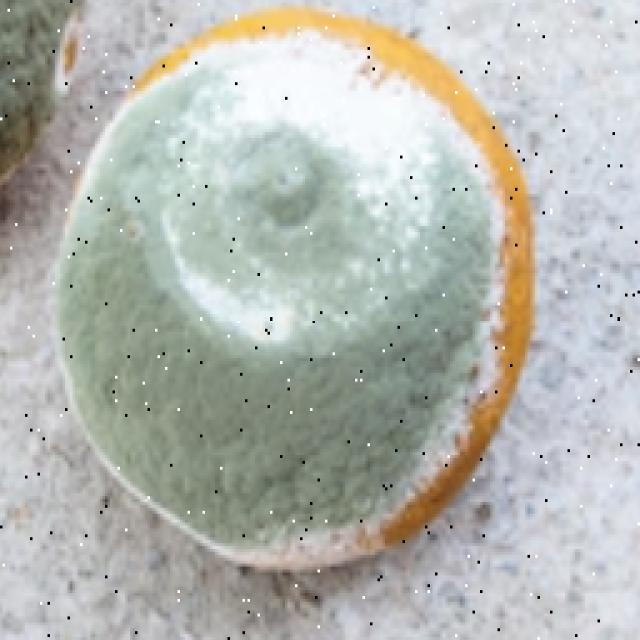Organik: (32, 0, 562, 595)
